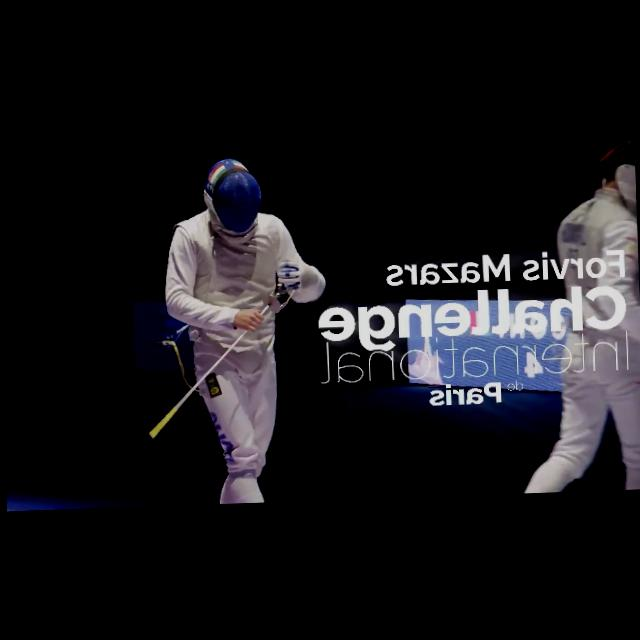blade: (142, 286, 287, 438)
